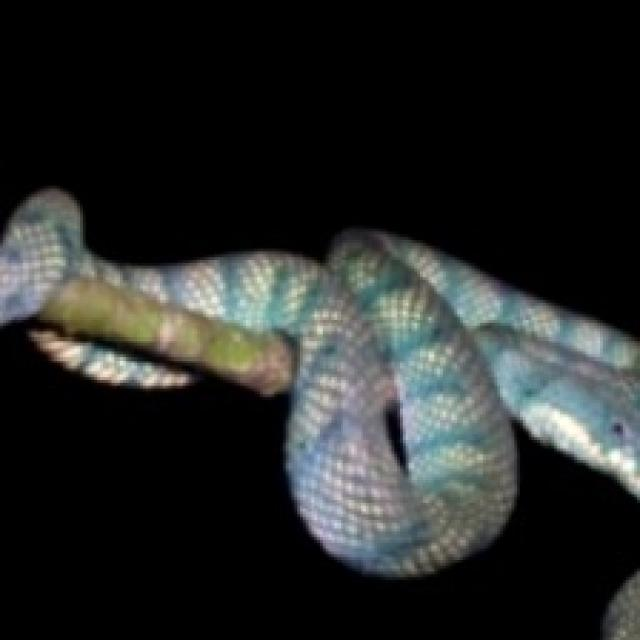north ph temple pitviper: (0, 189, 637, 574)
